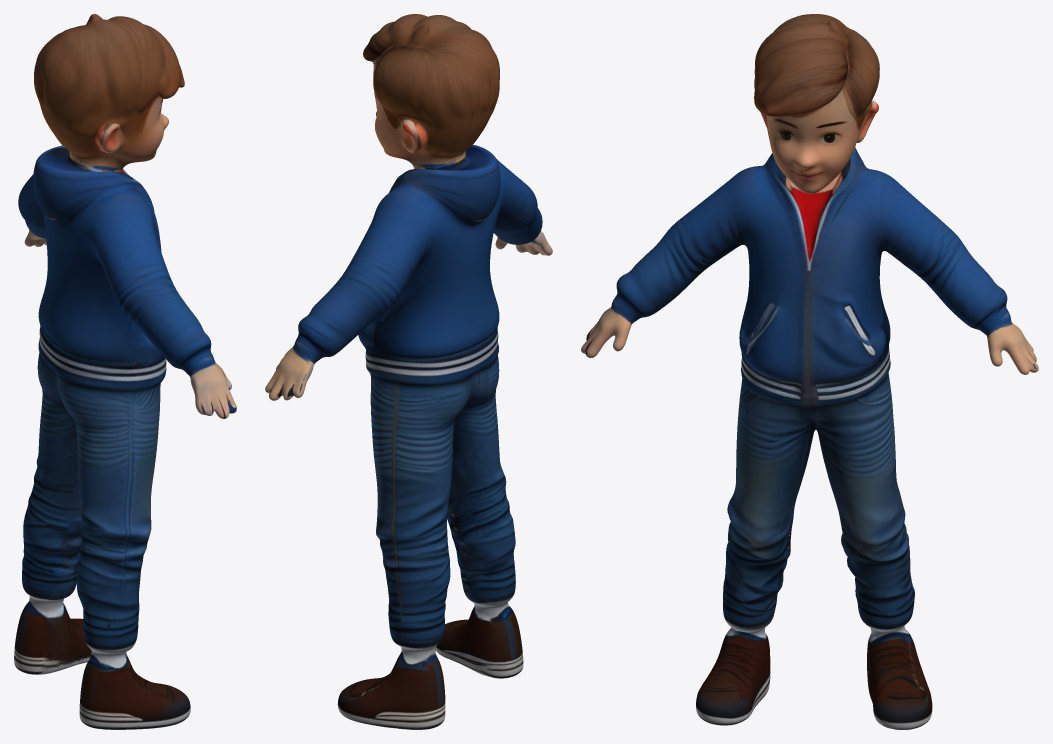
The model's file is kids_sitting.obj.
3 renders of one model, left to right at view 1: azimuth 30°, elevation 25°; view 2: azimuth 150°, elevation 25°; view 3: azimuth 270°, elevation 25°, orthographic. The views are drawn at different scales.
Visible parts, largest first — view 1: tripo_node_1539abff-e47a-4c5f-9d1d-691da64909f7_tripo_mat_1539ab; view 2: tripo_node_1539abff-e47a-4c5f-9d1d-691da64909f7_tripo_mat_1539ab; view 3: tripo_node_1539abff-e47a-4c5f-9d1d-691da64909f7_tripo_mat_1539ab.
Boxes of the visible parts, x1,y1,x2,y2 form: tripo_node_1539abff-e47a-4c5f-9d1d-691da64909f7_tripo_mat_1539ab: (14, 14, 236, 729); tripo_node_1539abff-e47a-4c5f-9d1d-691da64909f7_tripo_mat_1539ab: (265, 14, 552, 729); tripo_node_1539abff-e47a-4c5f-9d1d-691da64909f7_tripo_mat_1539ab: (581, 14, 1038, 729).
Bounding box in the file's own units: 0.00728 × 0.0355 × 0.0214.
1 material, 1 textured.
